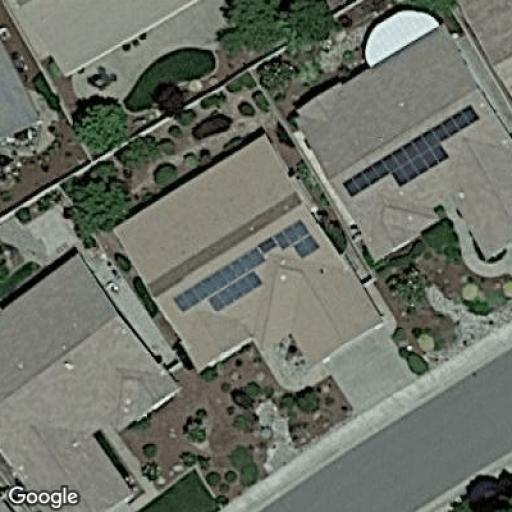solar-panel: (342, 103, 480, 199), (172, 247, 268, 315), (259, 218, 321, 261)
